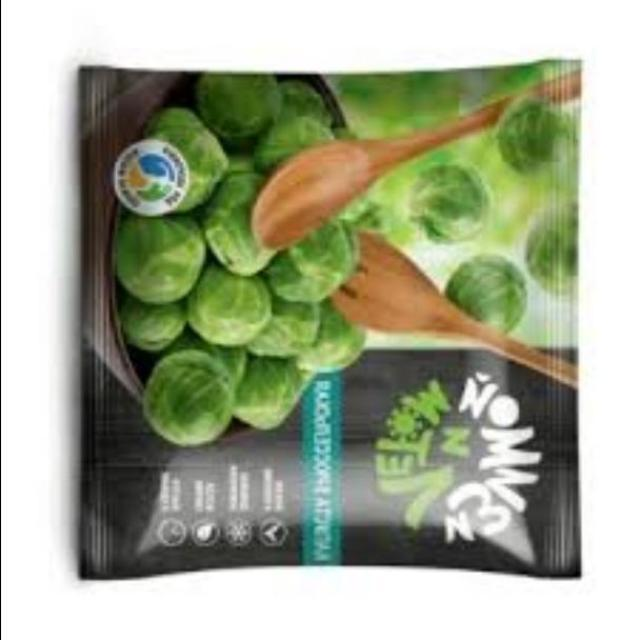brus capusta: (94, 91, 366, 444), (448, 248, 565, 348), (410, 136, 508, 254), (497, 98, 577, 176)
